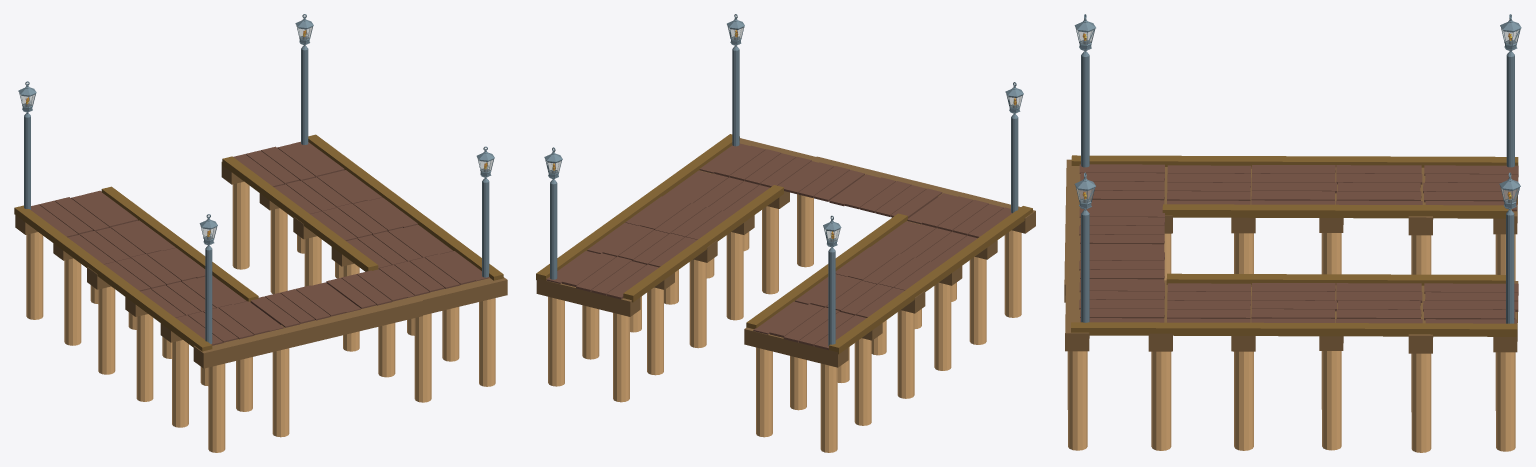
Rendered from BOARDWALK 3.fbx.
3 renders of one model, left to right at view 1: azimuth 30°, elevation 25°; view 2: azimuth 150°, elevation 25°; view 3: azimuth 270°, elevation 25°, orthographic. The views are drawn at different scales.
Visible parts, largest first — view 1: group637746987.001, group1449723076.001, group1915664950, group1449723076, group1915664950.001, group637746987, group1349716218.001, group399796857.001, group1349716218, group373659363.001, group651820503, group651820503.001 (+63 smaller); view 2: group1449723076.001, group1915664950, group1449723076, group1915664950.001, group2094383461, group2094383461.001, group651820503.001, group373659363.001, group373659363, group812431462, group812431462.001, group1475809206.001 (+64 smaller); view 3: group1915664950, group1915664950.001, group1449723076.001, group1449723076, group708455435, group1531649586, group30773341, group967139872, group399796857, group992261283, group637746987.001, model (+63 smaller).
Boxes of the visible parts, bbox=[...] form: group637746987.001: bbox=[193, 298, 422, 368]; group1449723076.001: bbox=[14, 205, 212, 351]; group1915664950: bbox=[308, 134, 503, 280]; group1449723076: bbox=[222, 156, 378, 271]; group1915664950.001: bbox=[101, 186, 258, 302]; group637746987: bbox=[408, 277, 507, 315]; group1349716218.001: bbox=[208, 363, 225, 452]; group399796857.001: bbox=[272, 348, 289, 437]; group1349716218: bbox=[414, 313, 431, 402]; group373659363.001: bbox=[98, 286, 115, 374]; group651820503: bbox=[232, 181, 249, 269]; group651820503.001: bbox=[26, 232, 43, 319]; group1449723076.001: bbox=[829, 206, 1032, 354]; group1915664950: bbox=[536, 134, 739, 280]; group1449723076: bbox=[623, 185, 783, 302]; group1915664950.001: bbox=[746, 213, 907, 328]; group2094383461: bbox=[536, 278, 640, 316]; group2094383461.001: bbox=[744, 327, 848, 367]; group651820503.001: bbox=[820, 363, 837, 452]; group373659363.001: bbox=[897, 310, 914, 398]; group373659363: bbox=[689, 259, 706, 348]; group812431462: bbox=[726, 232, 743, 320]; group812431462.001: bbox=[934, 282, 951, 370]; group1475809206.001: bbox=[969, 257, 986, 344]; group1915664950: bbox=[1071, 322, 1517, 336]; group1915664950.001: bbox=[1162, 204, 1511, 218]; group1449723076.001: bbox=[1071, 155, 1518, 167]; group1449723076: bbox=[1166, 273, 1505, 285]; group708455435: bbox=[1151, 351, 1171, 450]; group1531649586: bbox=[1411, 353, 1431, 452]; group30773341: bbox=[1234, 351, 1253, 450]; group967139872: bbox=[1496, 352, 1515, 451]; group399796857: bbox=[1068, 351, 1087, 450]; group992261283: bbox=[1322, 351, 1341, 450]; group637746987.001: bbox=[1064, 159, 1080, 302]; model: bbox=[1074, 14, 1095, 167].
Bounding box in the file's own units: 111 × 81.36 × 122.
